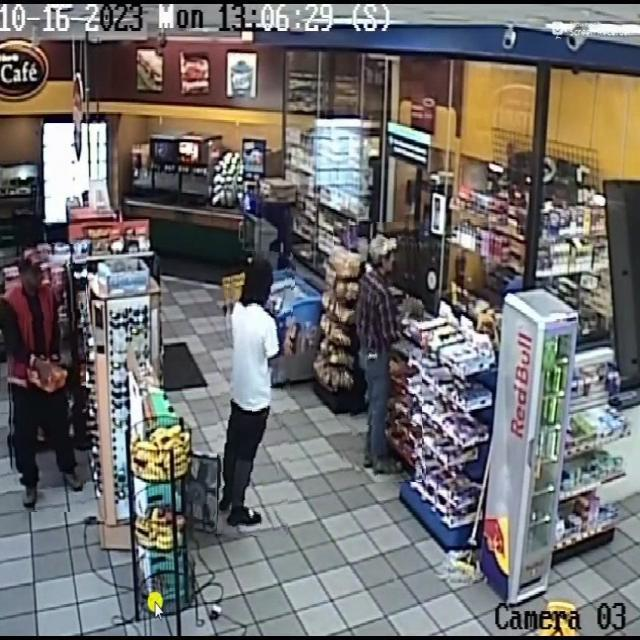Normal: (338, 222, 422, 483), (217, 251, 292, 537), (7, 244, 86, 512)
